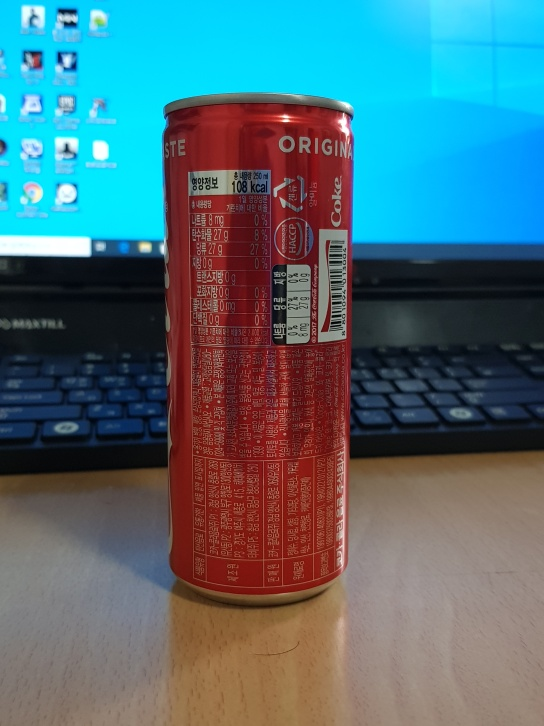Can: (159, 89, 356, 608)
